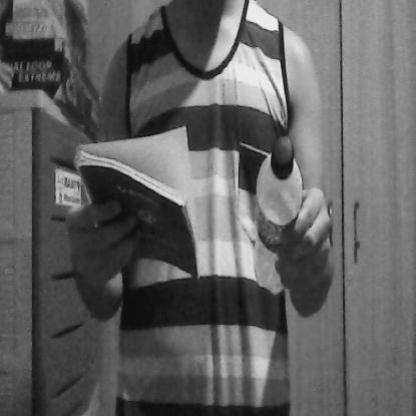Plastic Bottle: (250, 121, 309, 305)
